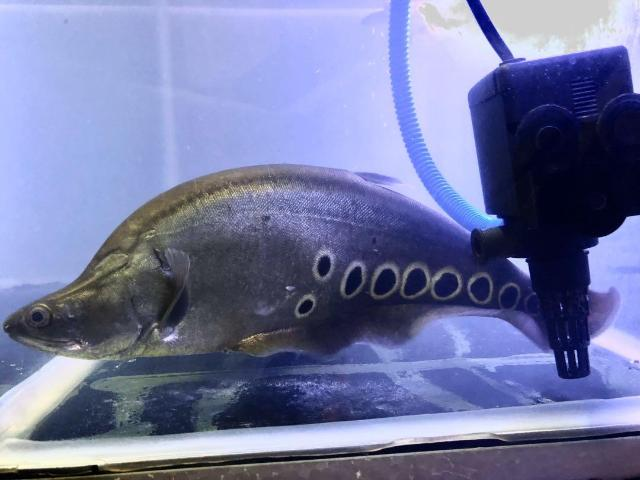Mulut: (2, 297, 102, 359)
Sirip Dada: (138, 232, 198, 344)
Sirip Punggung: (344, 158, 411, 198)
